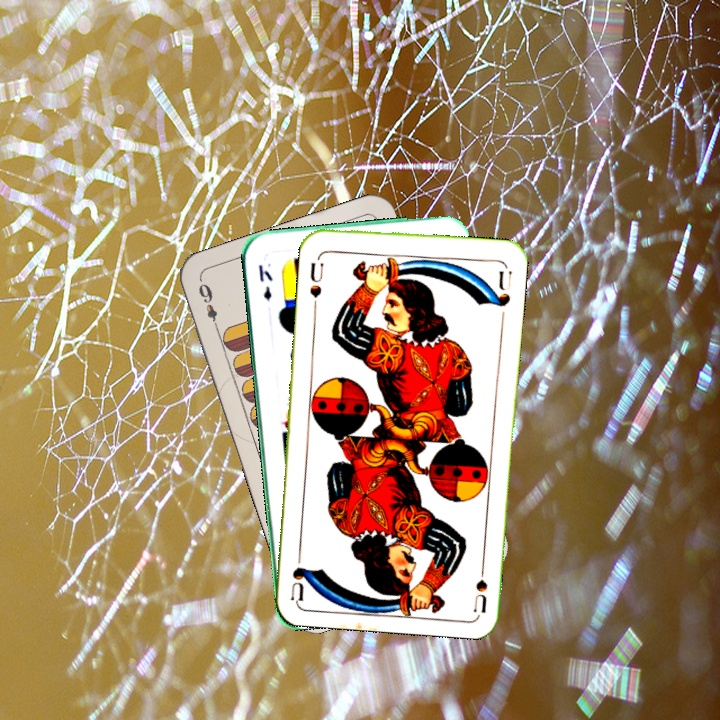E9: (194, 279, 222, 334)
EK: (255, 260, 275, 303)
SU: (470, 554, 490, 613), (305, 258, 326, 310)
